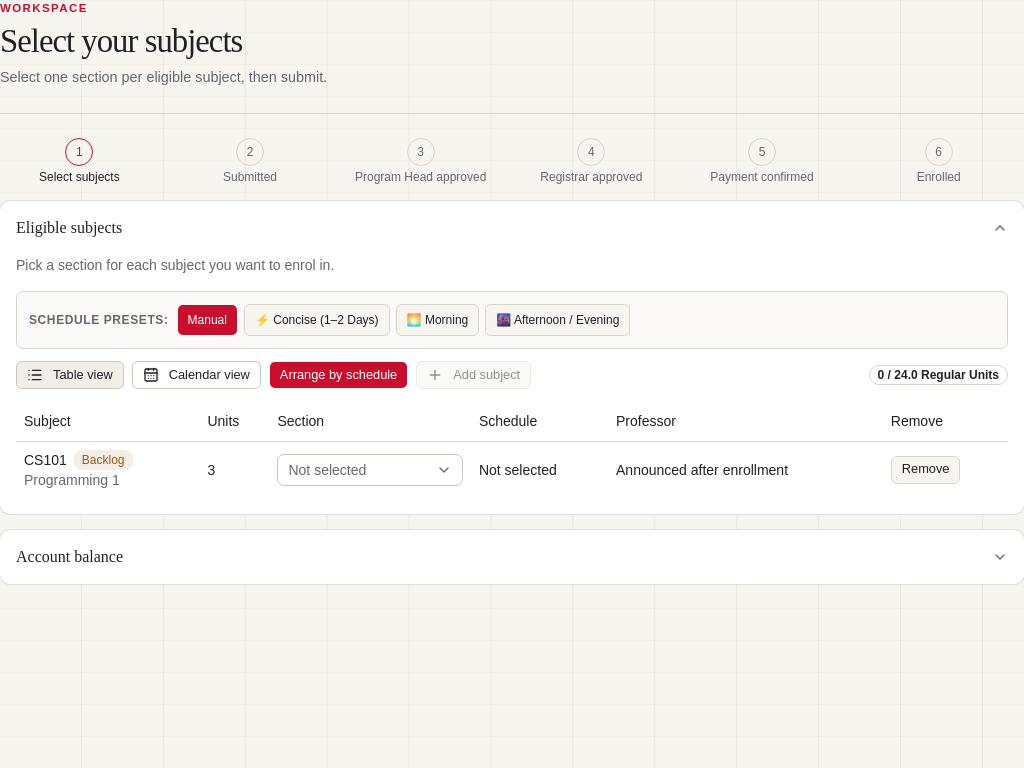
it: EnrollmentWorkspace › instructs students to claim queuing ticket at the campus Cashier kiosk upon confirmation
Step 1. Click the dropdown named "CS101 section" → coordinates (370, 470), box [278,454,463,486]
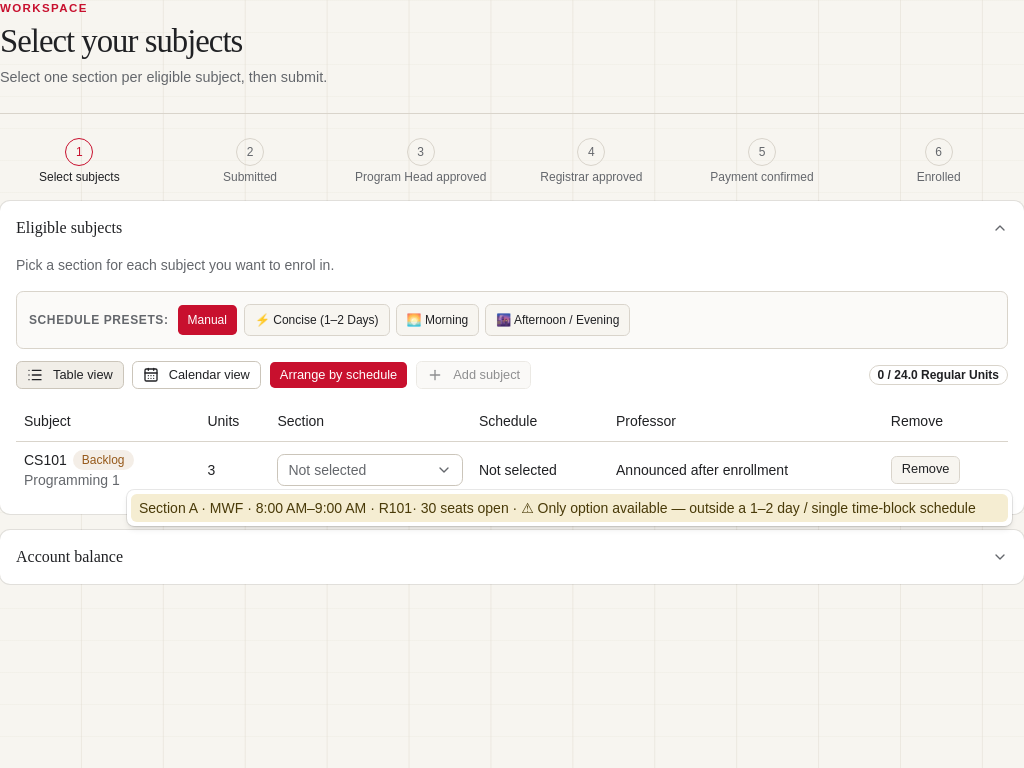
Step 2. Click the option "Section A" → coordinates (569, 508), box [131,494,1008,522]
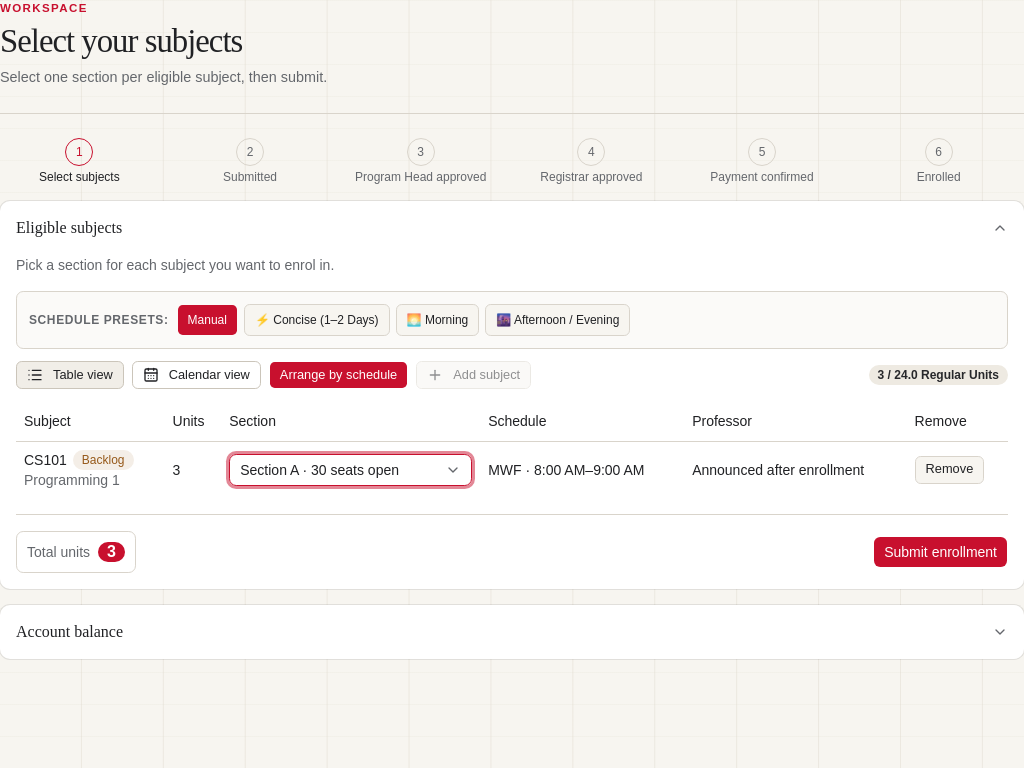
Step 3. Click the button "Submit enrollment" → coordinates (941, 552), box [873,536,1008,568]
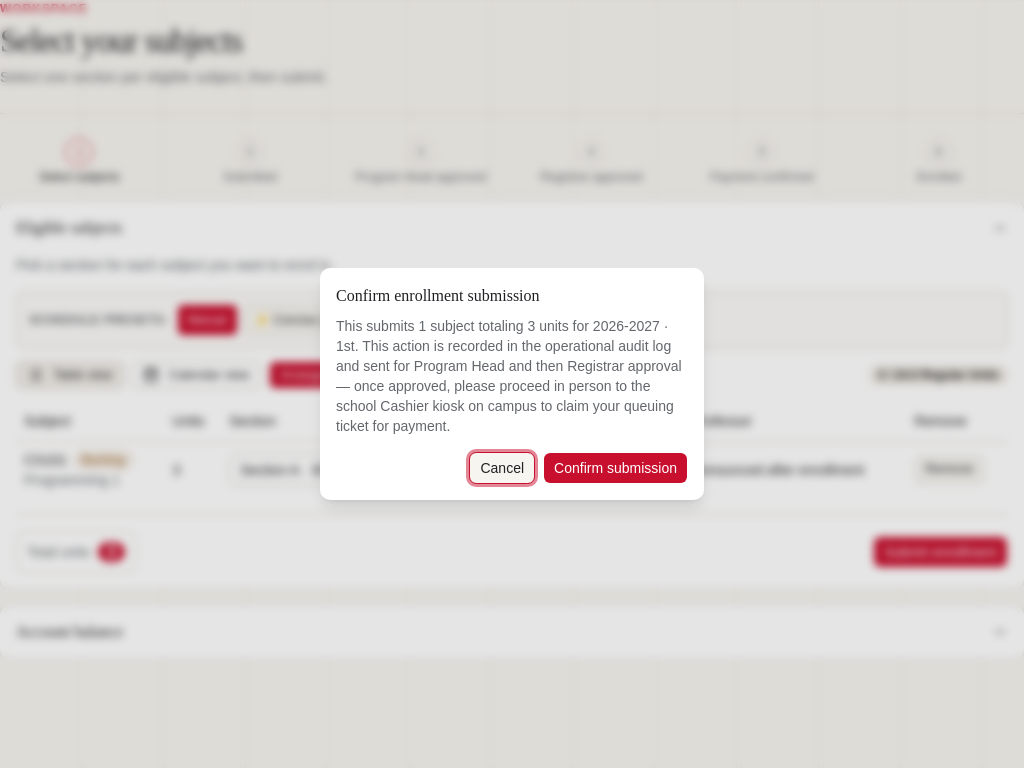
expect the text "proceed in person to the school Cashier kiosk on campus to claim your queuing ticket" is shown: met, box [336,316,688,436]
